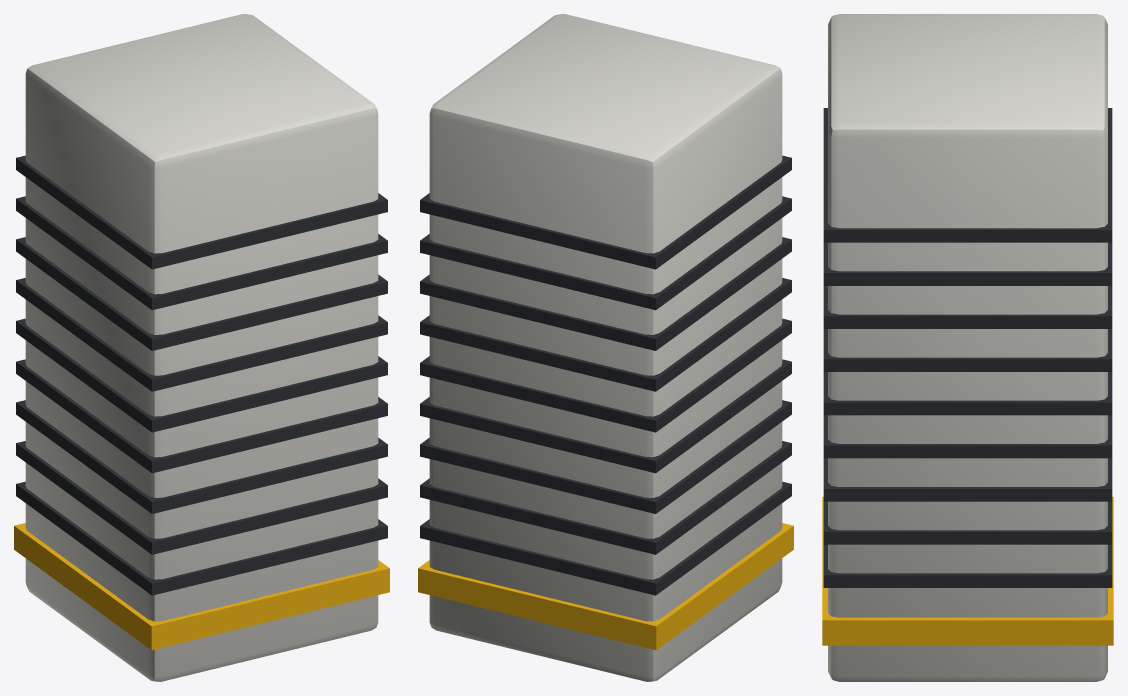
Rendered from fuel_cell.glb.
3 views of the same model, side by side, from view 1: azimuth 30°, elevation 25°; view 2: azimuth 150°, elevation 25°; view 3: azimuth 270°, elevation 25° (orthographic). The views are drawn at different scales.
Visible parts, largest first — view 1: Case, Stack, Band.003; view 2: Case, Stack, Band.003; view 3: Case, Stack, Band.003.
Boxes of the visible parts, x1,y1,x2,y2 form: Case: [25, 14, 378, 681]; Stack: [16, 155, 387, 595]; Band.003: [14, 523, 389, 650]; Case: [429, 14, 782, 681]; Stack: [420, 155, 791, 595]; Band.003: [418, 523, 793, 650]; Case: [828, 14, 1107, 681]; Stack: [823, 108, 1112, 587]; Band.003: [822, 497, 1113, 645].
Bounding box in the file's own units: 1.04 × 2.2 × 1.04.
